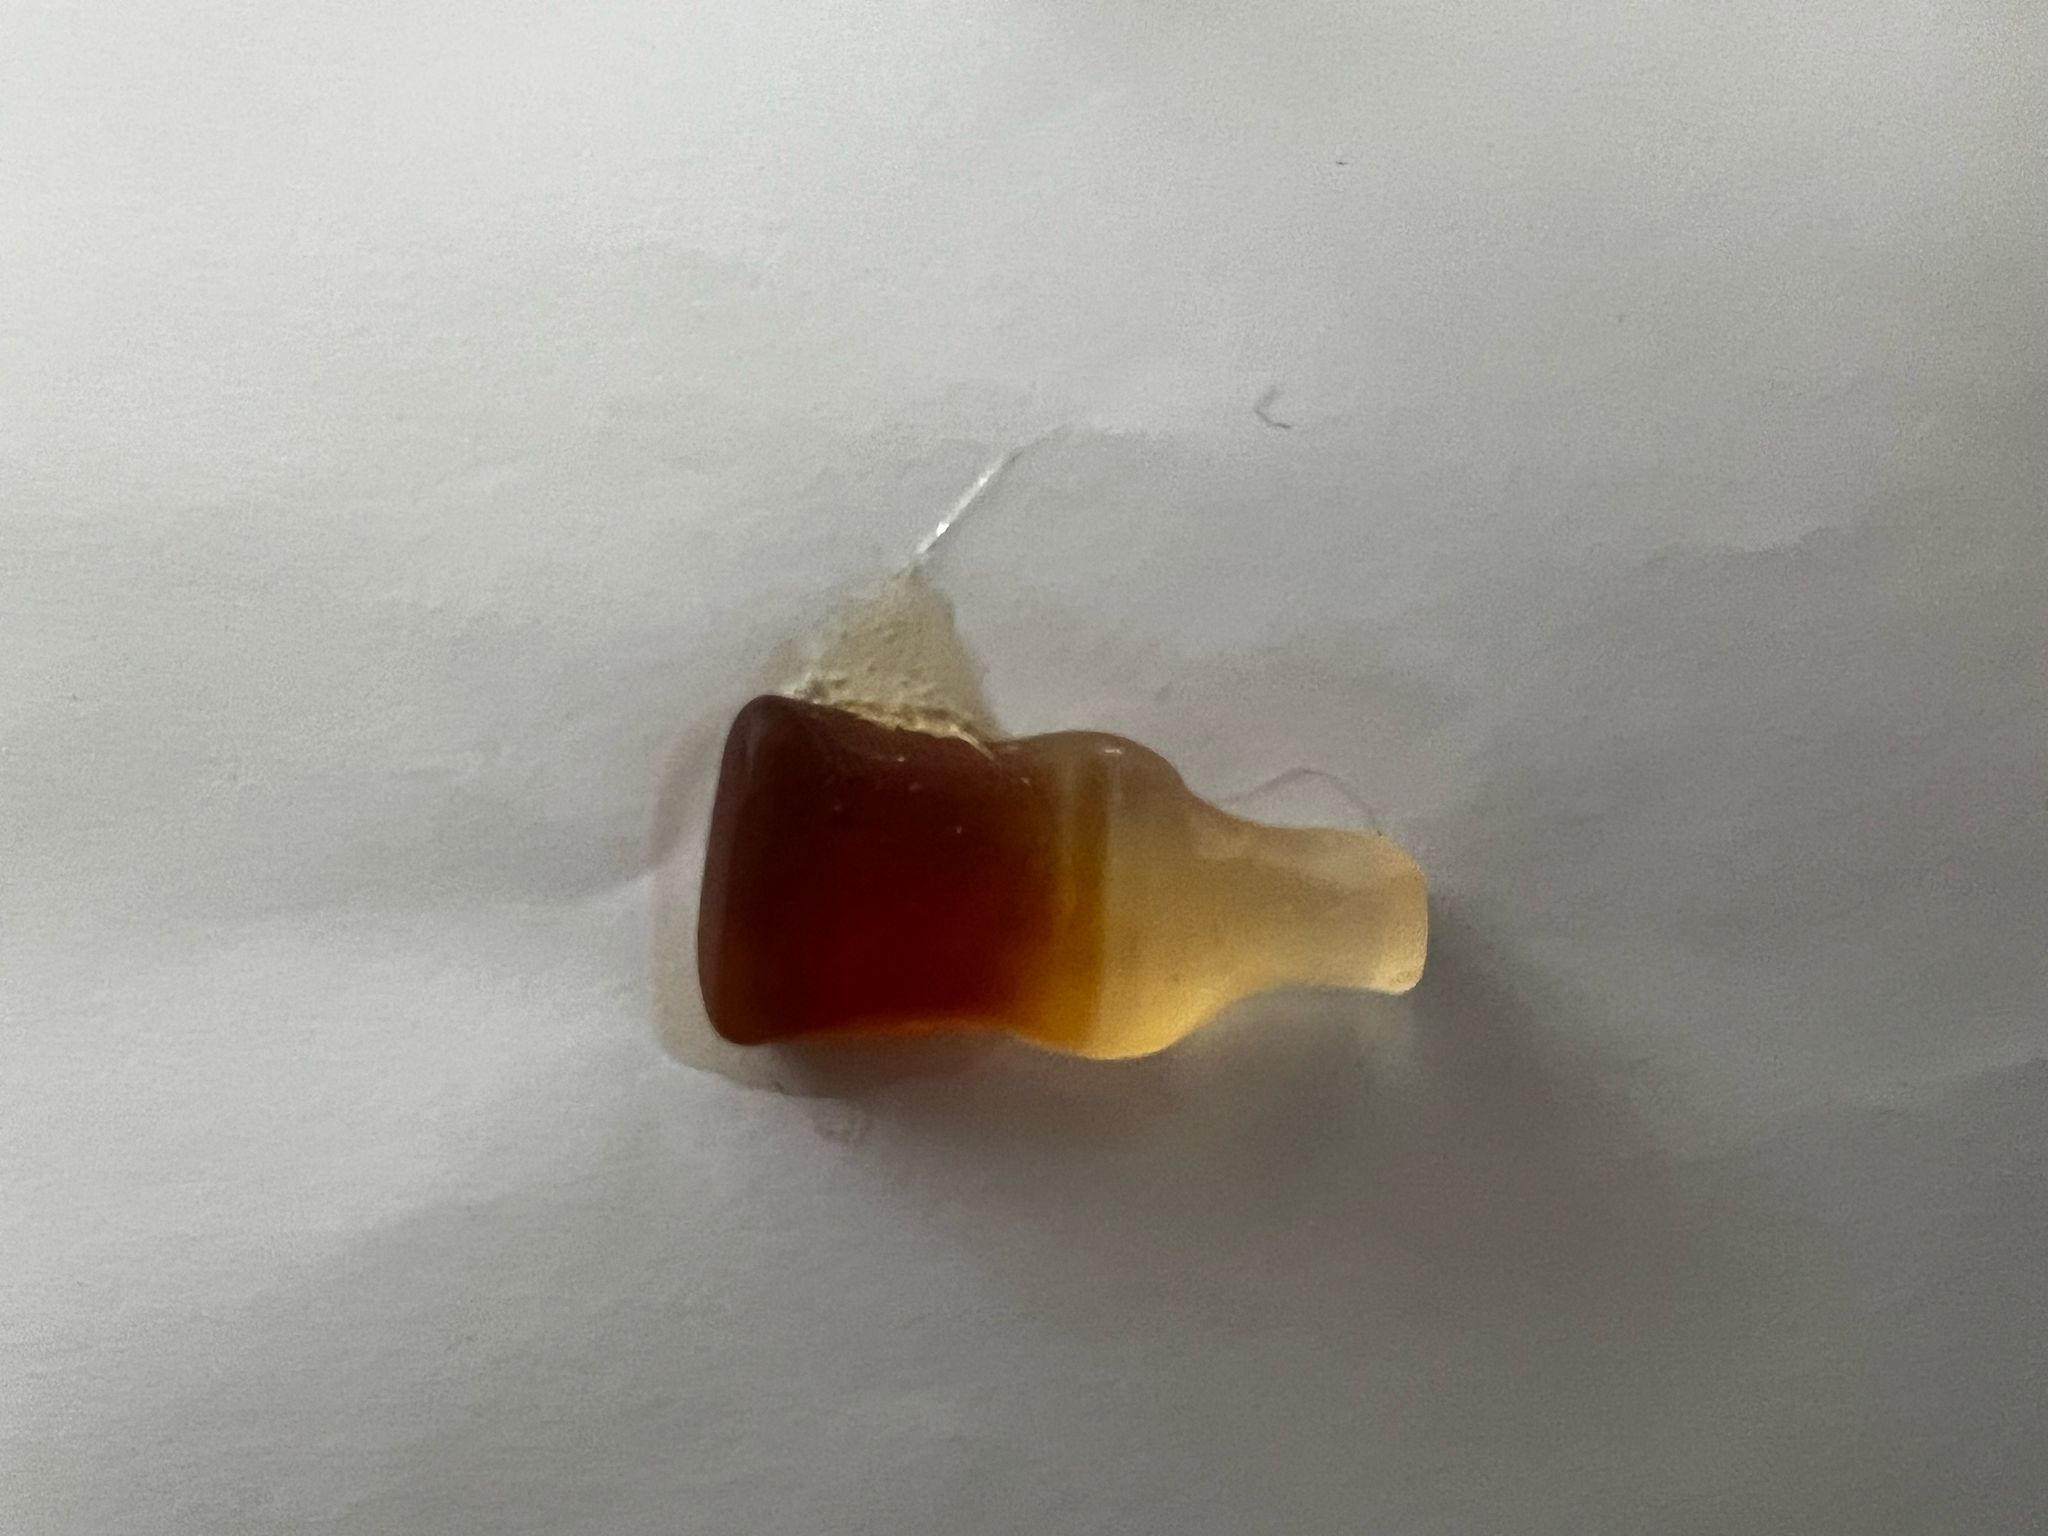cola: (672, 687, 1455, 1081)
